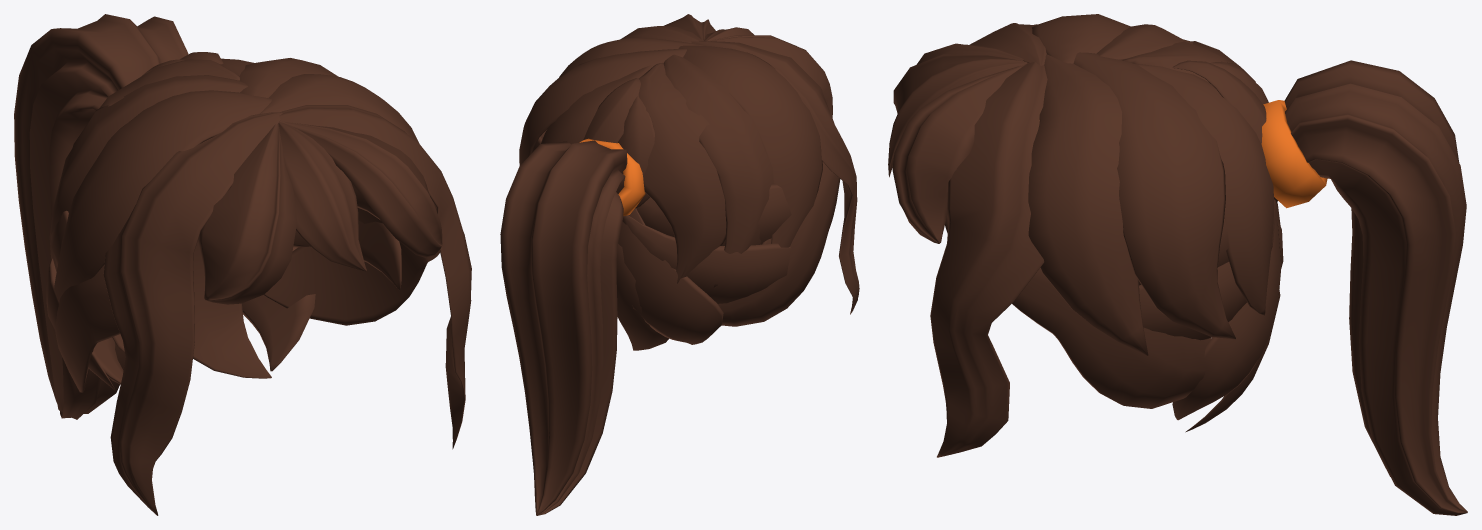
The model's file is testHair2.glb.
The picture shows the model from 3 angles, left to right: view 1: azimuth 30°, elevation 25°; view 2: azimuth 150°, elevation 25°; view 3: azimuth 270°, elevation 25°; orthographic projection. The views are drawn at different scales.
Visible parts, largest first — view 1: testHair2; view 2: testHair2; view 3: testHair2.
Part boxes in pixels (left/top/right/bottom): testHair2: left=14, top=14, right=471, bottom=515; testHair2: left=500, top=14, right=859, bottom=515; testHair2: left=888, top=14, right=1467, bottom=515.
Bounding box in the file's own units: 0.503 × 0.632 × 0.7081.
